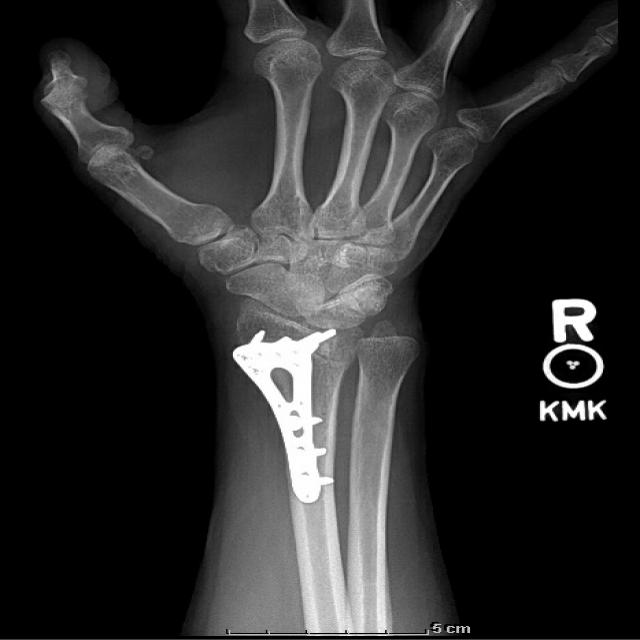x-ray: (211, 320, 359, 517)
